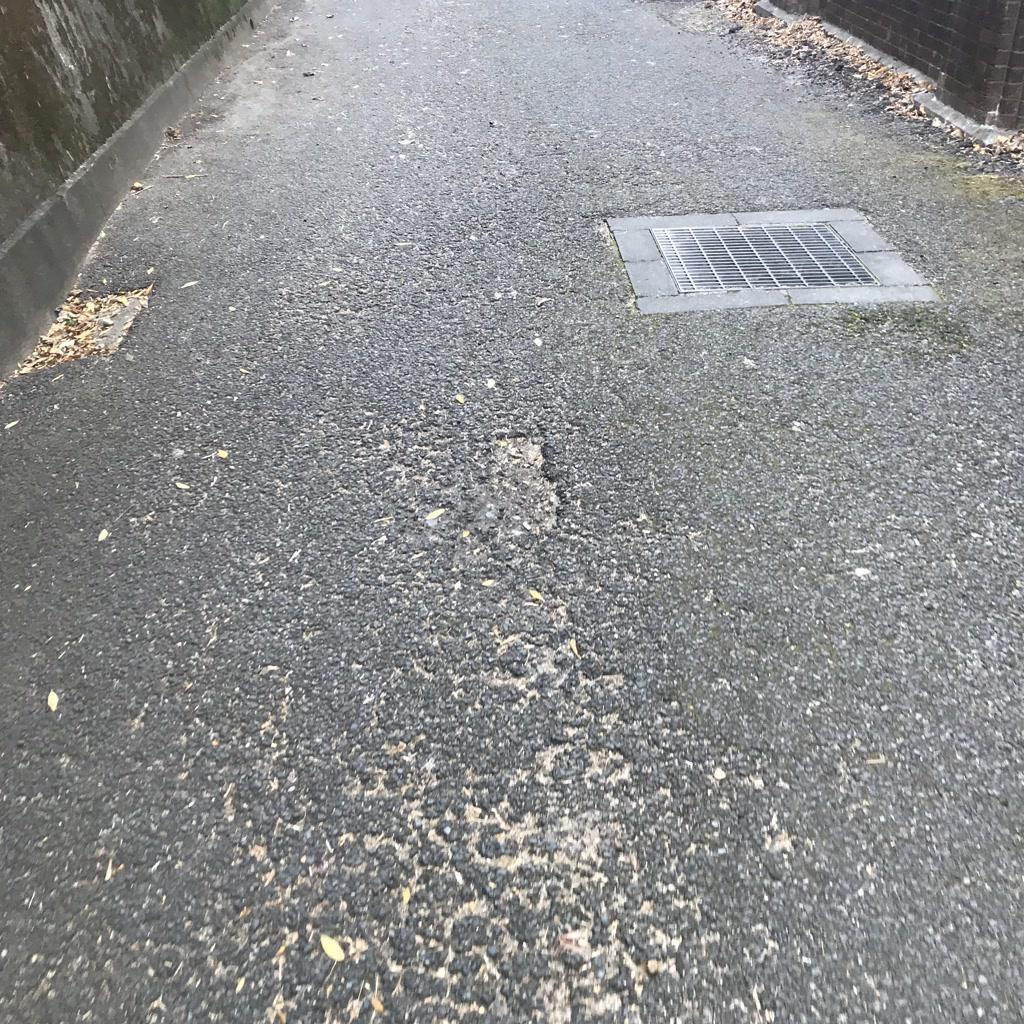pothole: (21, 281, 142, 386)
